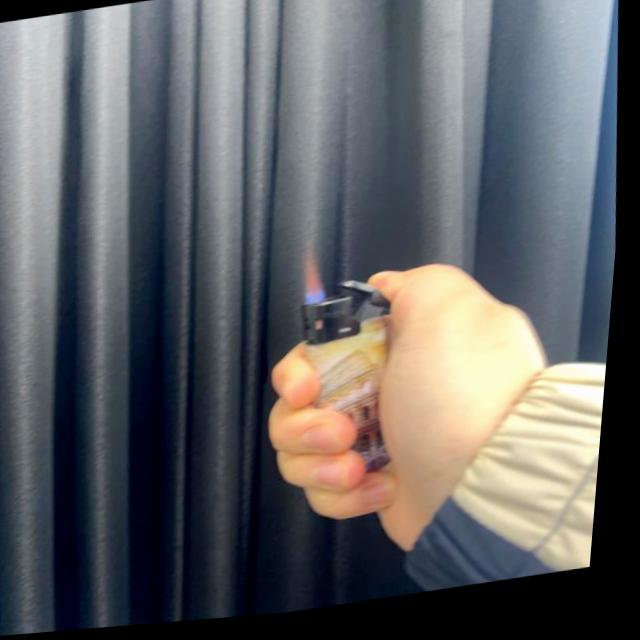helmet: (302, 250, 334, 311)
